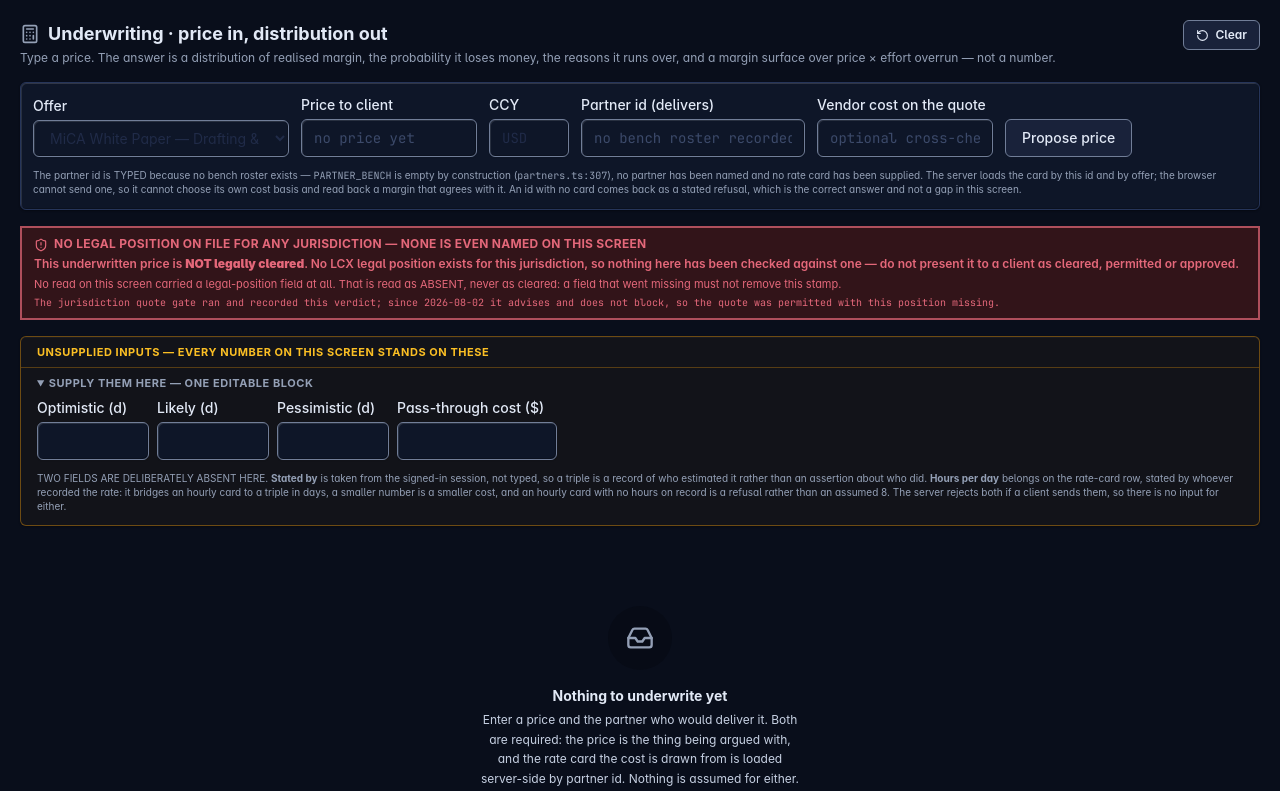
Scenario: a refusal › does not claim a basis for a distribution it never produced
Type "10000" into the field with test id "price-input" at (389, 138), box top-left (301, 119), bottom-right (477, 157)
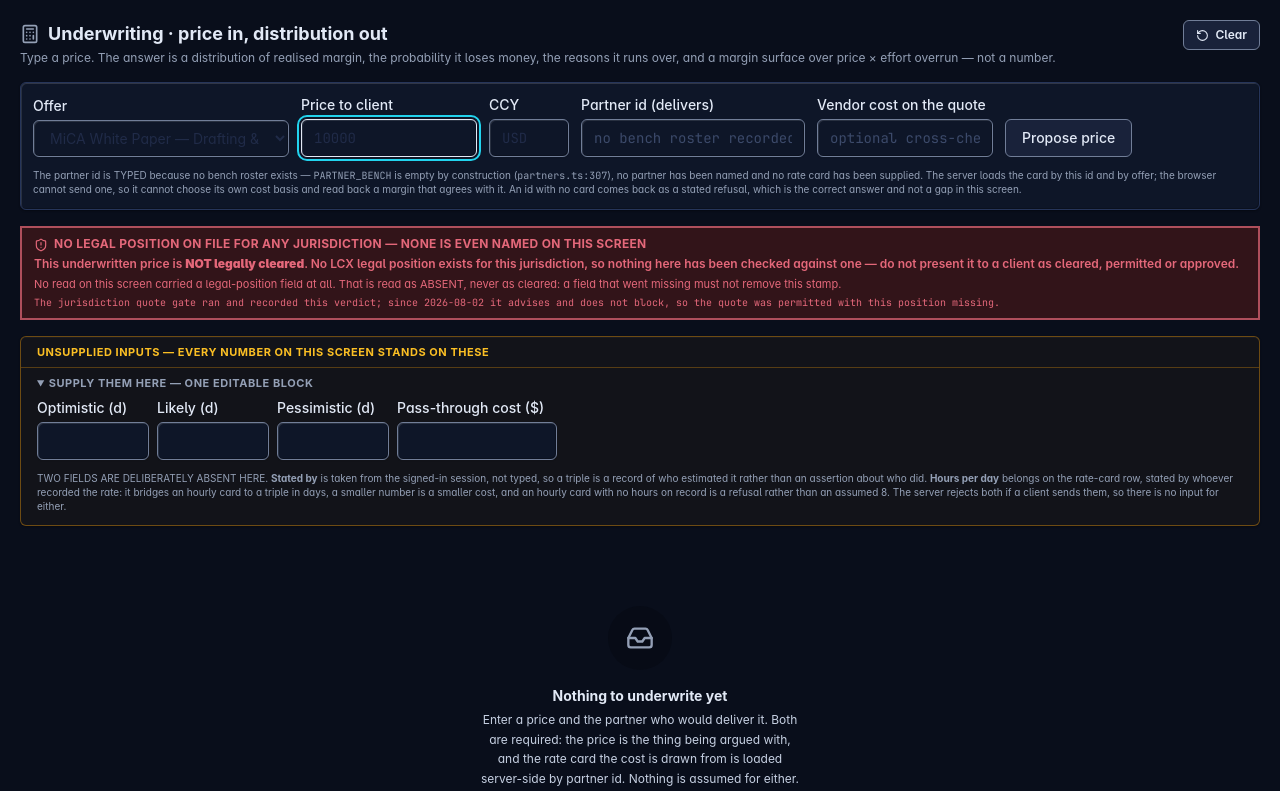
Type "partner-1" into the field with test id "partner-input" at (693, 138), box top-left (581, 119), bottom-right (805, 157)
(page scrolled)
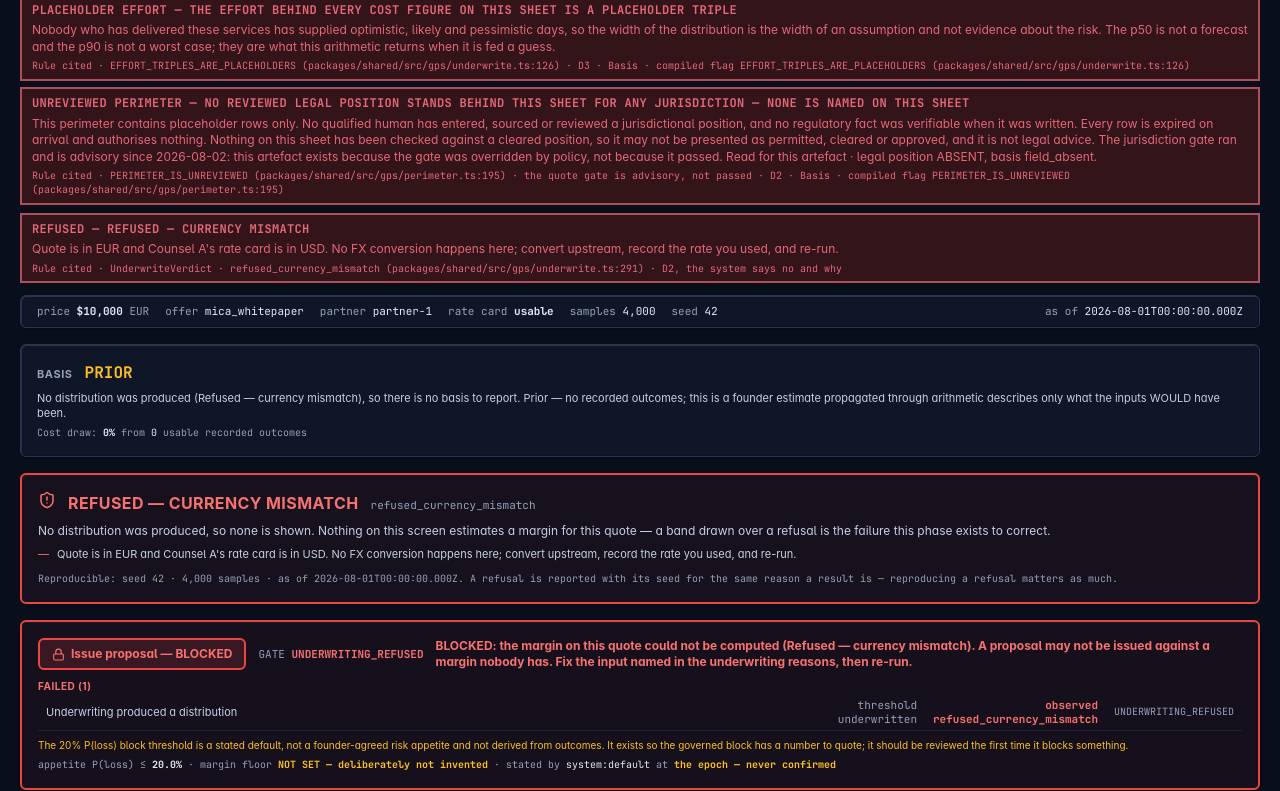
Expected: the element with test id "refusal" is shown, top-left (20, 473), bottom-right (1260, 604)
